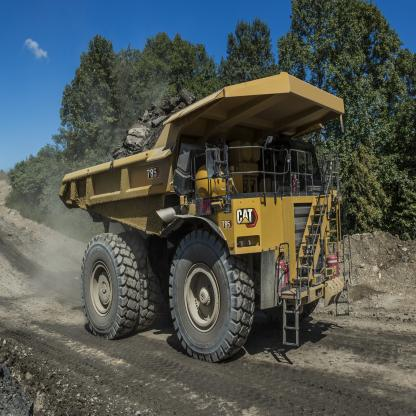dump_truck: (69, 63, 354, 358)
